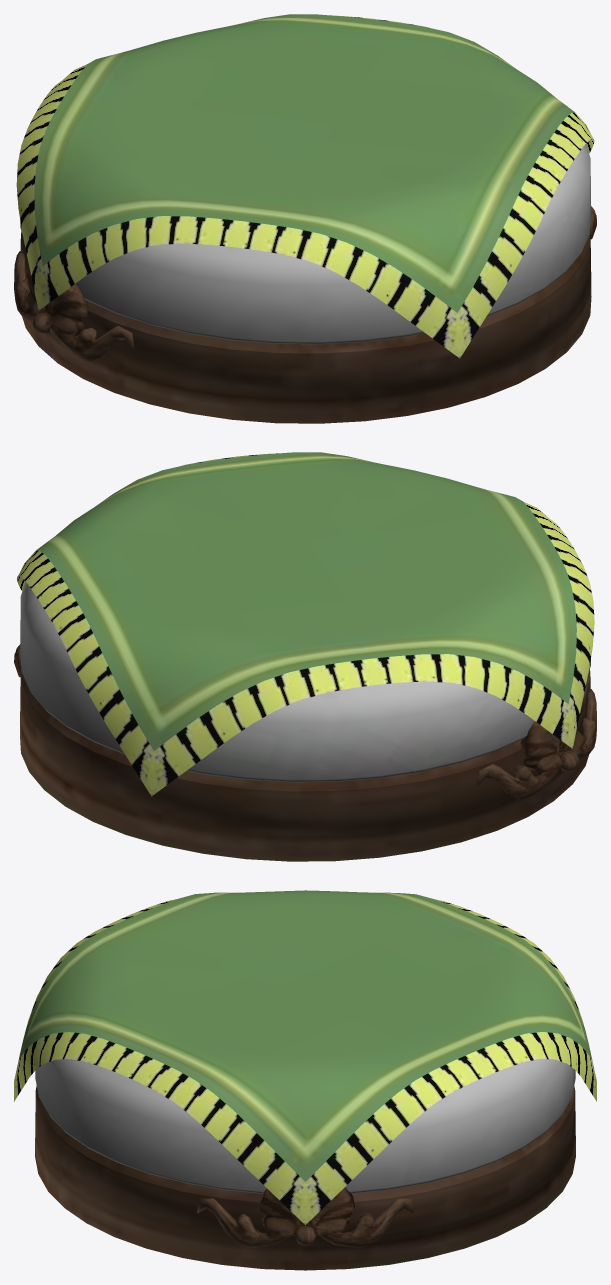
Rendered from SM_PalBedMedieval_d0e8e5.glb.
3 renders of one model, top to bottom at view 1: azimuth 30°, elevation 25°; view 2: azimuth 150°, elevation 25°; view 3: azimuth 270°, elevation 25°, orthographic. The views are drawn at different scales.
Bounding box in the file's own units: 1.61 × 0.5282 × 1.58.
1 material, 1 textured.
